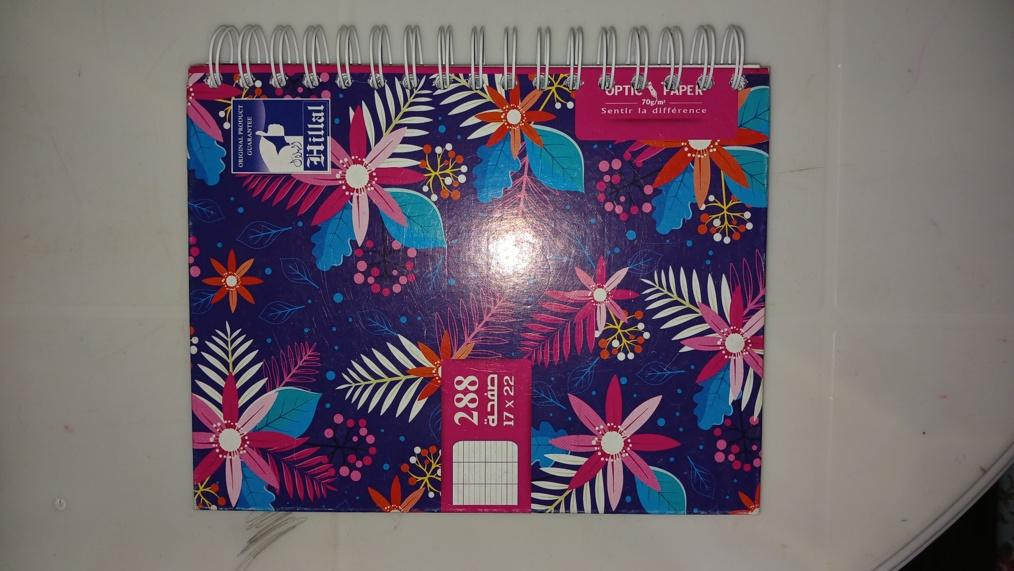notebook: (187, 22, 763, 513)
